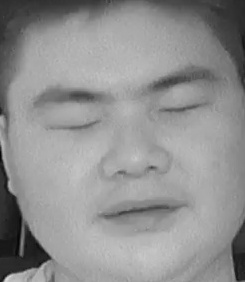blink: (53, 108, 102, 141), (159, 91, 207, 122)
mouth: (94, 186, 188, 238)
